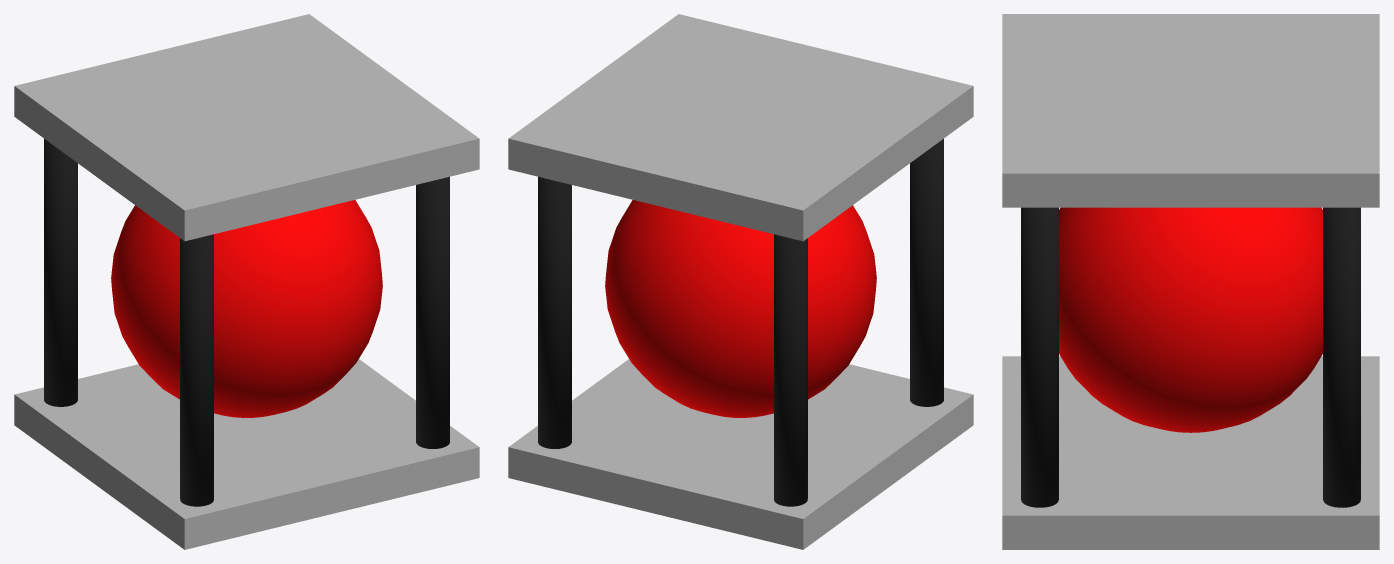
File: summon enemy.fbx
The picture shows the model from 3 angles, left to right: view 1: azimuth 30°, elevation 25°; view 2: azimuth 150°, elevation 25°; view 3: azimuth 270°, elevation 25°; orthographic projection. The views are drawn at different scales.
Visible parts, largest first — view 1: 立方体.001, 立方体, 球, 円柱.003, 円柱.001, 円柱.002; view 2: 立方体.001, 立方体, 球, 円柱.002, 円柱, 円柱.003; view 3: 立方体.001, 球, 立方体, 円柱, 円柱.001.
Boxes of the visible parts, x1=… form: 立方体.001: x1=14, y1=14, x2=479, y2=241; 立方体: x1=14, y1=359, x2=479, y2=549; 球: x1=111, y1=200, x2=382, y2=417; 円柱.003: x1=180, y1=234, x2=213, y2=506; 円柱.001: x1=416, y1=176, x2=449, y2=448; 円柱.002: x1=44, y1=138, x2=77, y2=406; 立方体.001: x1=508, y1=14, x2=973, y2=241; 立方体: x1=508, y1=359, x2=973, y2=549; 球: x1=605, y1=200, x2=876, y2=417; 円柱.002: x1=774, y1=234, x2=807, y2=506; 円柱: x1=538, y1=176, x2=571, y2=448; 円柱.003: x1=910, y1=138, x2=943, y2=406; 立方体.001: x1=1002, y1=14, x2=1379, y2=207; 球: x1=1059, y1=207, x2=1322, y2=432; 立方体: x1=1002, y1=356, x2=1379, y2=549; 円柱: x1=1323, y1=207, x2=1360, y2=507; 円柱.001: x1=1021, y1=207, x2=1058, y2=507.
Size of the model in its own units: 200 by 220 by 200.
